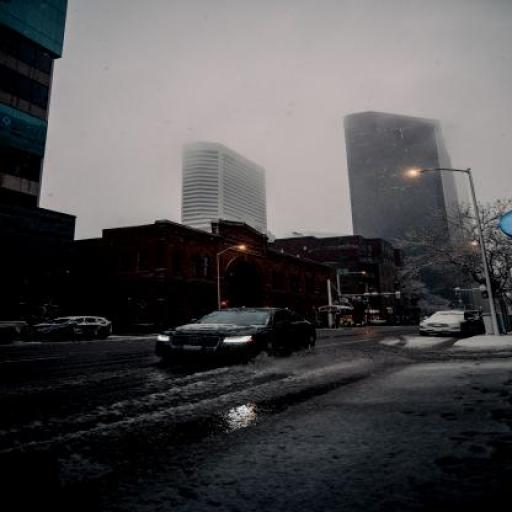street light: (409, 166, 501, 334), (472, 241, 506, 316), (217, 245, 248, 321), (338, 271, 368, 325)
